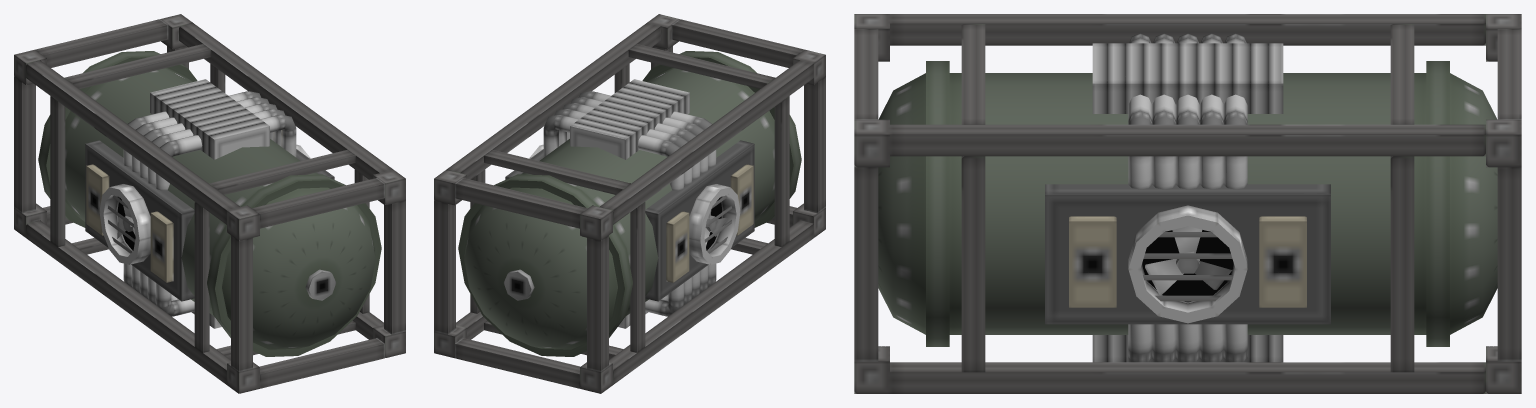
Rendered from condenser.obj.
3 views of the same model, side by side, from view 1: azimuth 30°, elevation 25°; view 2: azimuth 150°, elevation 25°; view 3: azimuth 270°, elevation 25° (orthographic). The views are drawn at different scales.
Parts seen in each view (by area): view 1: Condenser; view 2: Condenser; view 3: Condenser, Fan2.
Part boxes in pixels (left/top/right/bottom): Condenser: left=14, top=14, right=405, bottom=393; Condenser: left=434, top=14, right=825, bottom=393; Condenser: left=854, top=14, right=1521, bottom=393; Fan2: left=1145, top=226, right=1232, bottom=295.
Bounding box in the file's own units: 3.25 × 3.25 × 7.
